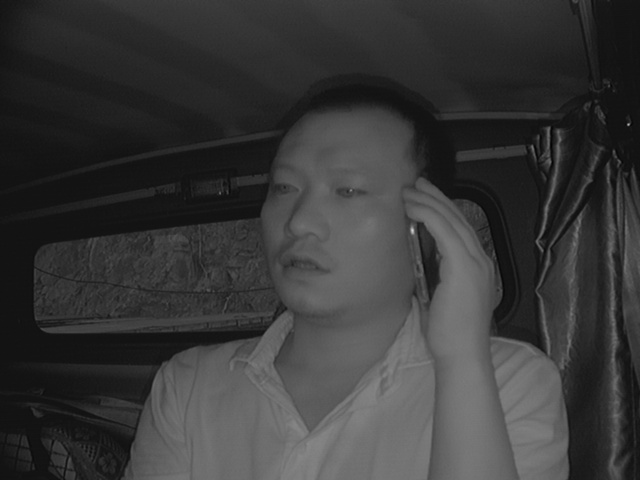hand: (394, 173, 486, 344)
